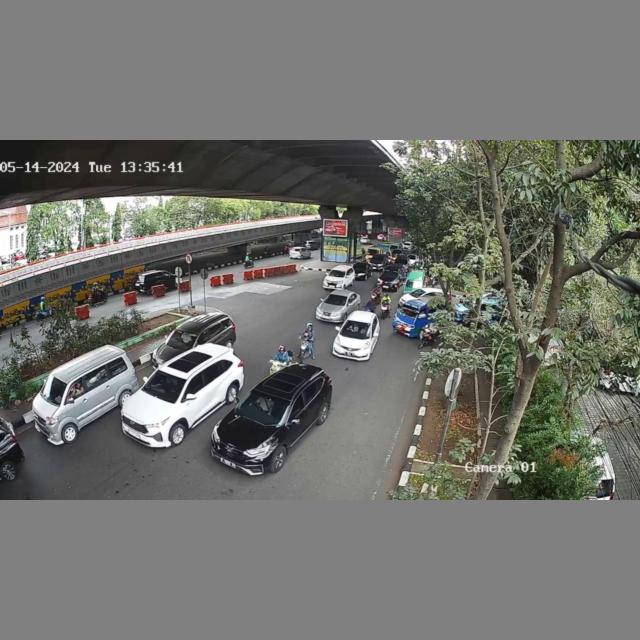windshield: (239, 389, 290, 423), (140, 369, 186, 399), (38, 374, 68, 407), (166, 328, 197, 348), (340, 319, 372, 338), (322, 293, 347, 307)
